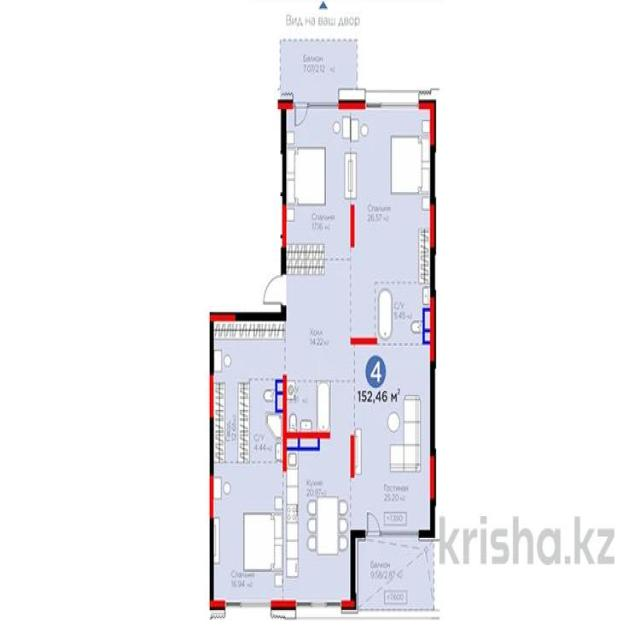balcony: (358, 538, 436, 616), (280, 40, 360, 99)
bathroom: (374, 284, 430, 345), (250, 382, 280, 458)
hallway: (290, 265, 353, 380)
kitchen: (285, 442, 352, 606)
living_room: (355, 344, 432, 534), (351, 111, 430, 279), (212, 461, 282, 602), (284, 109, 350, 257)
other: (215, 326, 247, 461)
